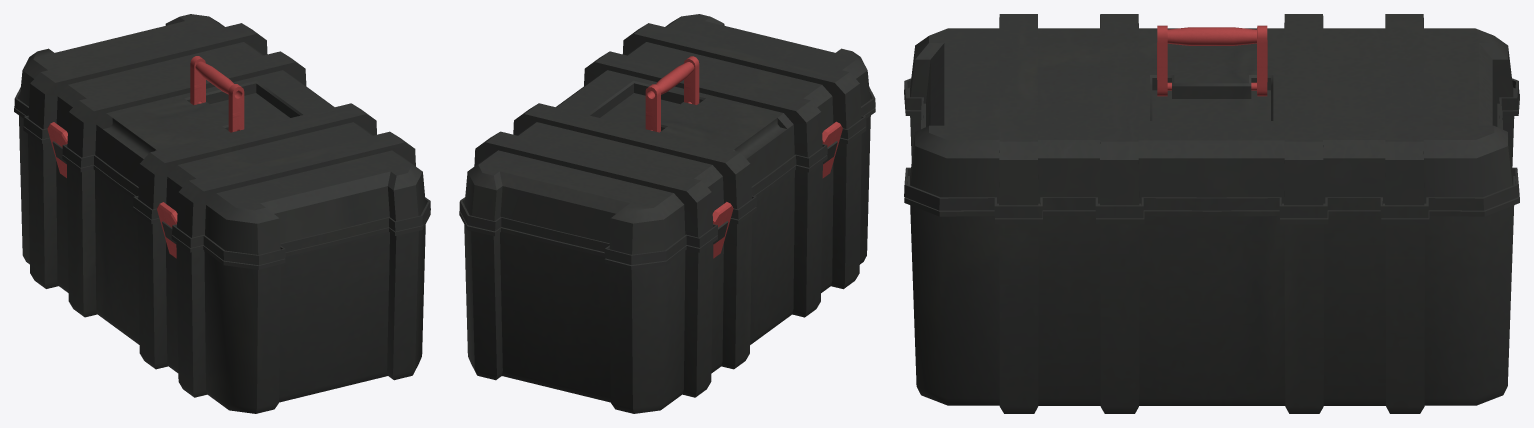
The model's file is ToolBox.fbx.
The picture shows the model from 3 angles, left to right: view 1: azimuth 30°, elevation 25°; view 2: azimuth 150°, elevation 25°; view 3: azimuth 270°, elevation 25°; orthographic projection. The views are drawn at different scales.
Visible parts, largest first — view 1: Cube.001, Cube; view 2: Cube.001, Cube; view 3: Cube, Cube.001.
Boxes of the visible parts, x1,y1,x2,y2 form: Cube.001: [14, 14, 430, 265]; Cube: [14, 107, 430, 413]; Cube.001: [459, 14, 875, 264]; Cube: [459, 108, 875, 413]; Cube: [904, 94, 1519, 413]; Cube.001: [904, 14, 1519, 218].
Size of the model in its own units: 236 by 240 by 419.
